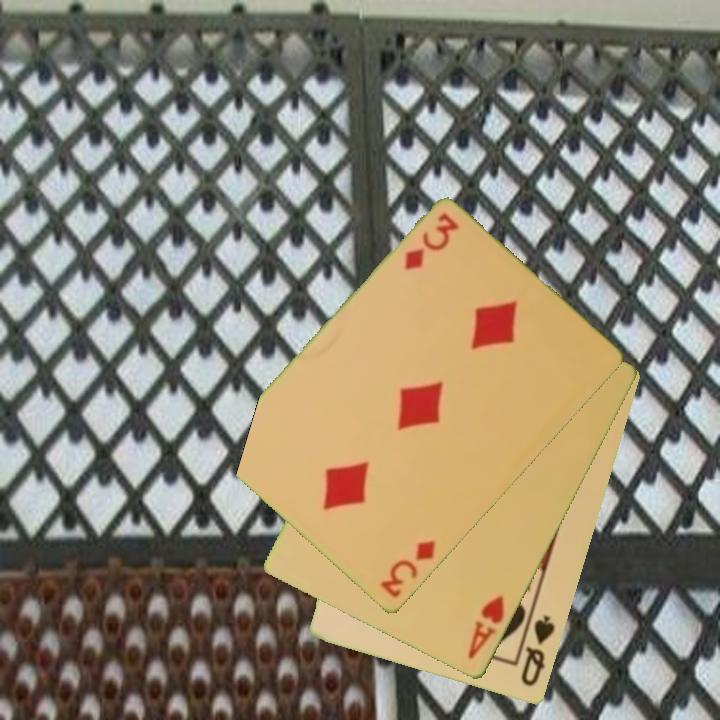3d: (377, 537, 439, 602), (400, 210, 462, 274)
Ah: (464, 592, 508, 663)
Qs: (518, 612, 558, 690)
